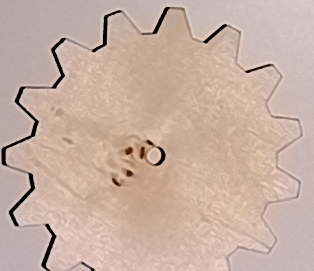Points: (137, 145, 147, 161), (111, 176, 123, 188), (122, 145, 135, 156), (124, 168, 134, 178), (145, 138, 155, 147)
